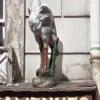Statue: (22, 4, 76, 81)
